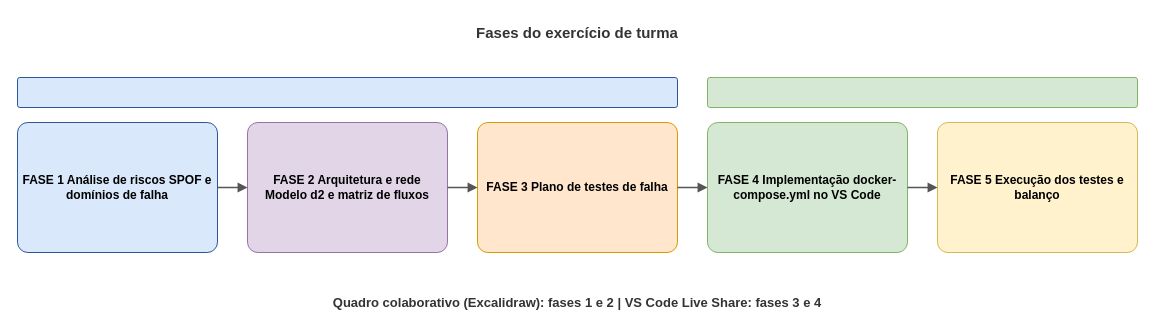
Image size: 1155x334. Some labels were removed from this diagram. Here are the shapes that lost their labels. From the top down, the centre of each, then its label:
At point (347, 92): "PLANEAMENTO".
At point (922, 92): "IMPLEMENTAÇÃO E VERIFICAÇÃO".
